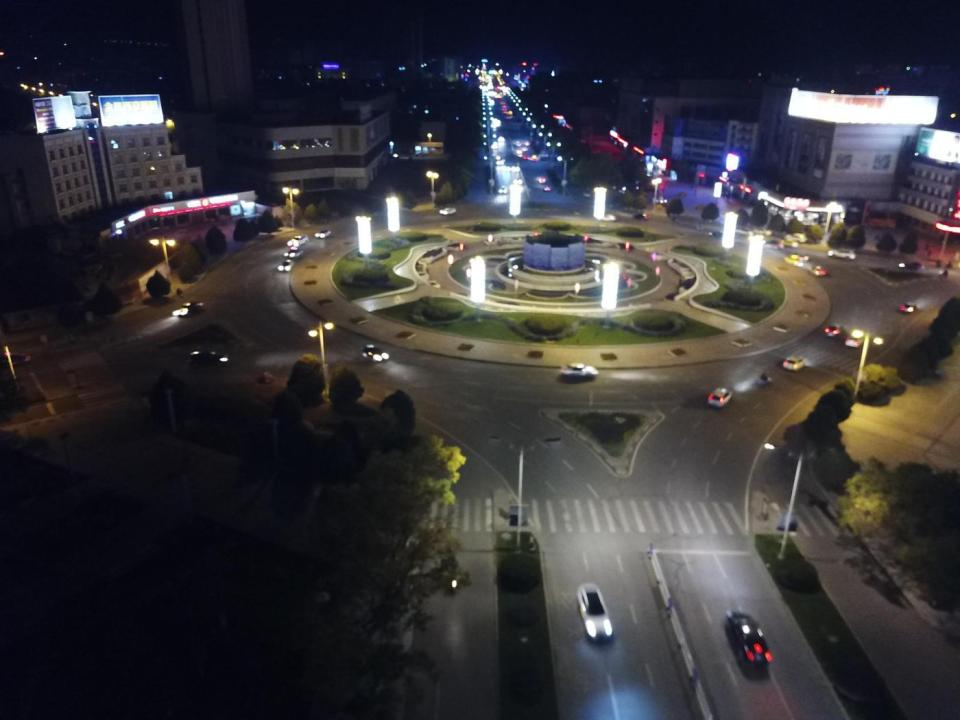car: (728, 610, 772, 670), (577, 581, 613, 640), (190, 349, 229, 365), (362, 344, 390, 362), (562, 364, 598, 377), (172, 302, 204, 316), (1, 352, 31, 365), (708, 388, 732, 404), (783, 356, 806, 372), (828, 248, 855, 261), (845, 331, 864, 347), (824, 324, 844, 338), (899, 261, 924, 272), (786, 254, 808, 266), (785, 232, 806, 243), (762, 240, 784, 250), (284, 247, 304, 257), (288, 236, 308, 245), (900, 302, 918, 312), (781, 239, 800, 248), (754, 227, 772, 236), (278, 260, 294, 270), (809, 266, 825, 276), (315, 229, 330, 239), (410, 152, 428, 160), (710, 230, 726, 238), (633, 212, 650, 219), (734, 227, 751, 234), (440, 207, 456, 214), (601, 214, 617, 221), (657, 196, 666, 204), (498, 186, 506, 194), (496, 156, 504, 164), (632, 182, 640, 190), (584, 188, 591, 197), (514, 178, 522, 184), (645, 171, 653, 177), (512, 164, 519, 170), (491, 142, 498, 148), (498, 135, 505, 141), (497, 166, 504, 172), (538, 177, 546, 182), (522, 154, 530, 159), (506, 164, 512, 170), (544, 186, 550, 191), (531, 156, 537, 161), (516, 141, 522, 146), (490, 123, 496, 128), (525, 140, 530, 145), (483, 86, 488, 91), (485, 76, 491, 80), (518, 148, 522, 153), (523, 147, 528, 151), (490, 91, 494, 96), (488, 85, 494, 88), (500, 100, 504, 104), (500, 86, 504, 90), (502, 90, 506, 94), (506, 115, 511, 118), (489, 102, 494, 105), (518, 153, 522, 156), (496, 94, 500, 97), (502, 104, 506, 107), (495, 87, 499, 90), (488, 98, 492, 101), (486, 92, 490, 95), (489, 81, 493, 84), (504, 111, 507, 113), (503, 108, 506, 109)
